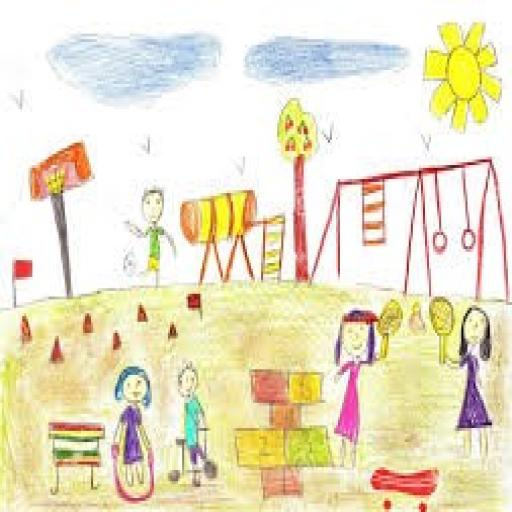person: (324, 292, 404, 470), (430, 293, 499, 467), (104, 359, 162, 507), (118, 178, 180, 294), (166, 362, 220, 494)
